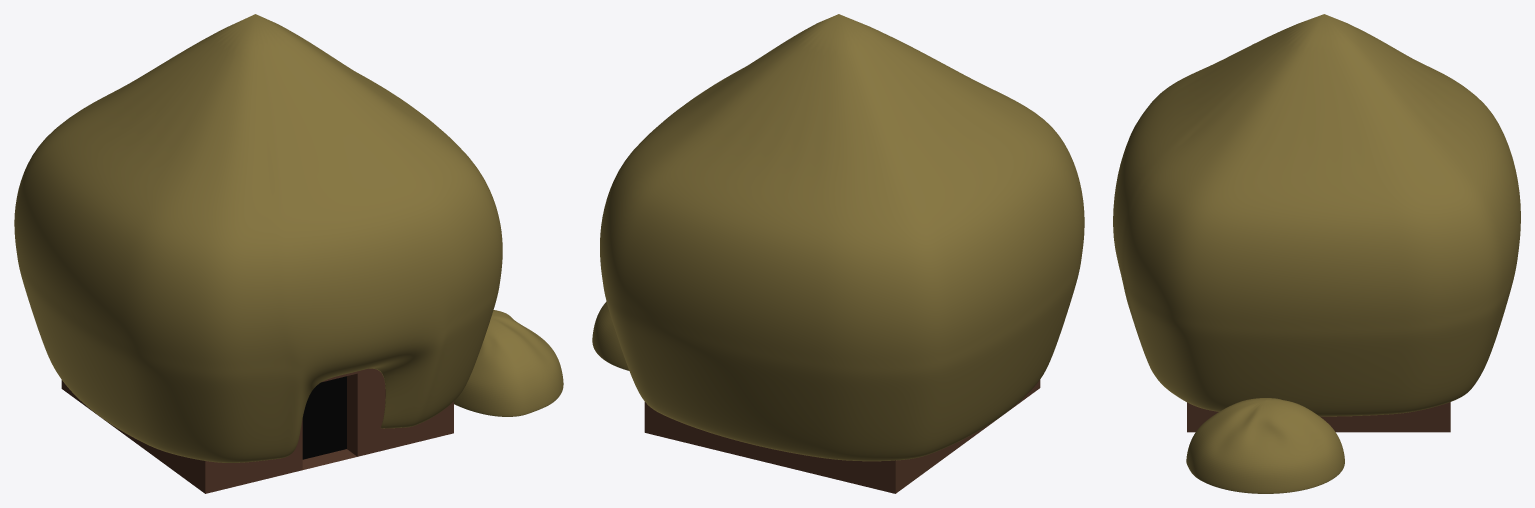
Rendered from Strohhuette 5.fbx.
3 views of the same model, side by side, from view 1: azimuth 30°, elevation 25°; view 2: azimuth 150°, elevation 25°; view 3: azimuth 270°, elevation 25° (orthographic). The views are drawn at different scales.
Visible parts, largest first — view 1: Dach, Außen, Stroh, Innen; view 2: Dach, Außen, Stroh; view 3: Dach, Stroh, Außen.
Boxes of the visible parts, left/top/right/bottom form: Dach: left=14, top=14, right=502, bottom=462; Außen: left=61, top=368, right=453, bottom=493; Stroh: left=454, top=310, right=563, bottom=416; Innen: left=302, top=376, right=346, bottom=459; Dach: left=600, top=14, right=1084, bottom=461; Außen: left=644, top=380, right=1040, bottom=493; Stroh: left=592, top=301, right=629, bottom=370; Dach: left=1113, top=14, right=1520, bottom=416; Stroh: left=1186, top=398, right=1344, bottom=493; Außen: left=1187, top=402, right=1450, bottom=432.
Size of the model in its own units: 366 by 304 by 309.
